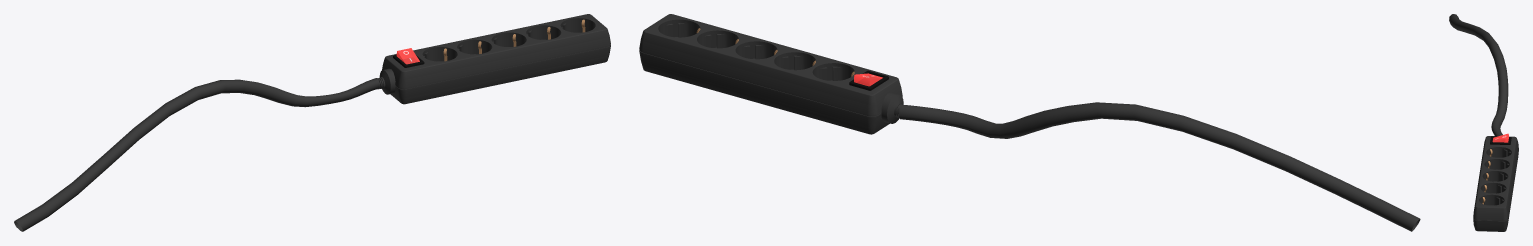
Rendered from Regleta.glb.
3 renders of one model, left to right at view 1: azimuth 30°, elevation 25°; view 2: azimuth 150°, elevation 25°; view 3: azimuth 270°, elevation 25°, orthographic. The views are drawn at different scales.
Visible parts, largest first — view 1: Escritorio_Regleta; view 2: Escritorio_Regleta; view 3: Escritorio_Regleta.
Boxes of the visible parts, bbox=[...] form: Escritorio_Regleta: bbox=[14, 14, 610, 231]; Escritorio_Regleta: bbox=[639, 14, 1420, 231]; Escritorio_Regleta: bbox=[1449, 14, 1518, 231].
Bounding box in the file's own units: 1.11 × 0.1294 × 0.1493.
5 materials, 1 textured.
